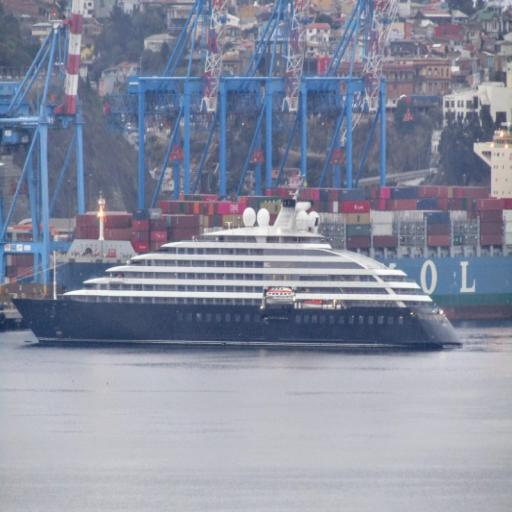cruises: (6, 195, 461, 359)
